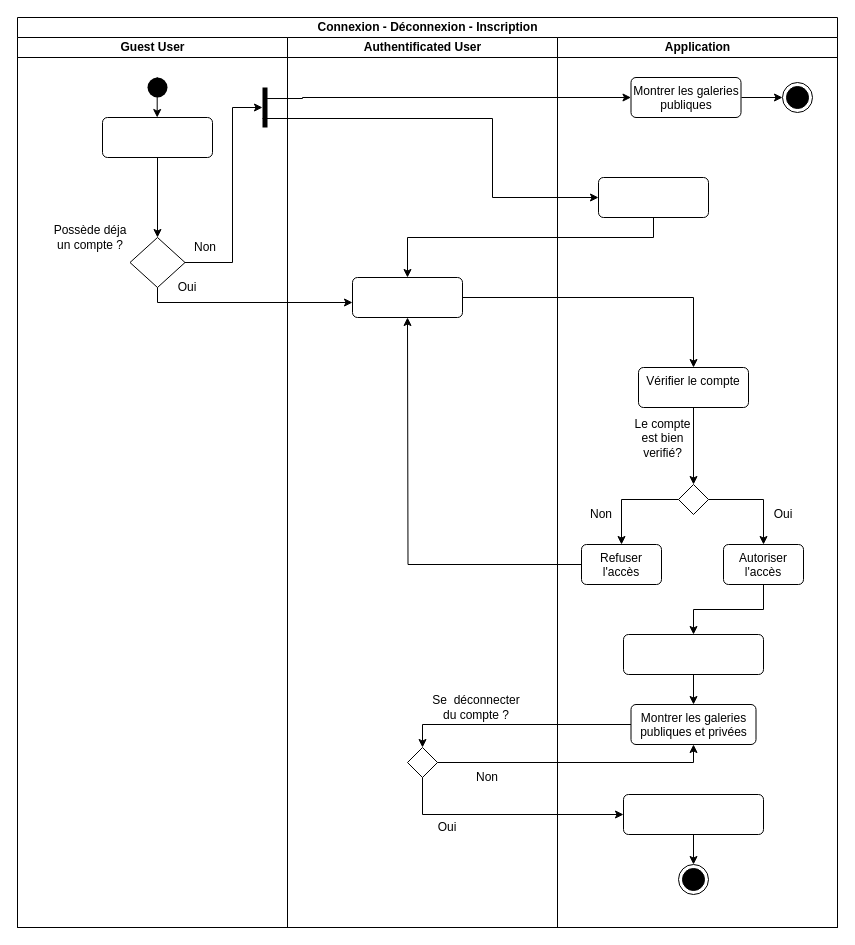
Some shapes in this 855 by 945 pixel diagram are drawn without their labels. Here are the shapes that lost their labels. From the top down, the centre of each, then its label:
At (157,137): "Ouvrir l'application".
At (653,197): "S'inscrire".
At (407,297): "Se Connecter".
At (693,654): "Ouvrir une nouvelle session".
At (693,814): "Fermer la session".
